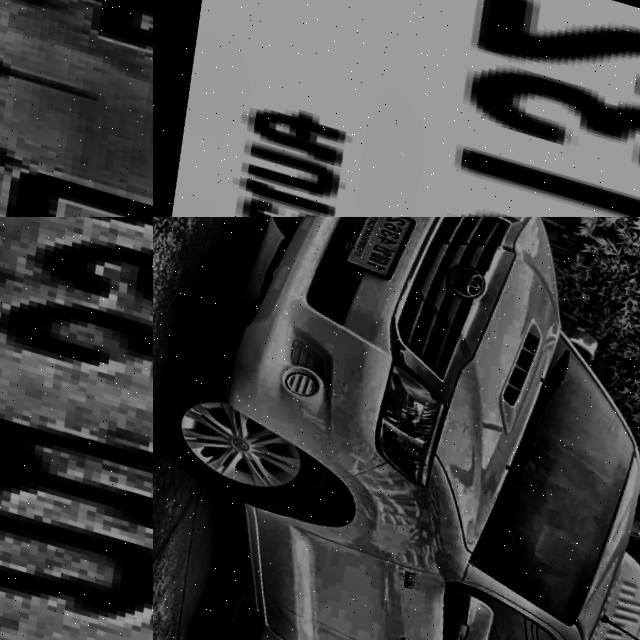license-plate: (153, 0, 640, 217), (0, 217, 153, 640), (0, 0, 153, 217), (321, 217, 420, 284)
